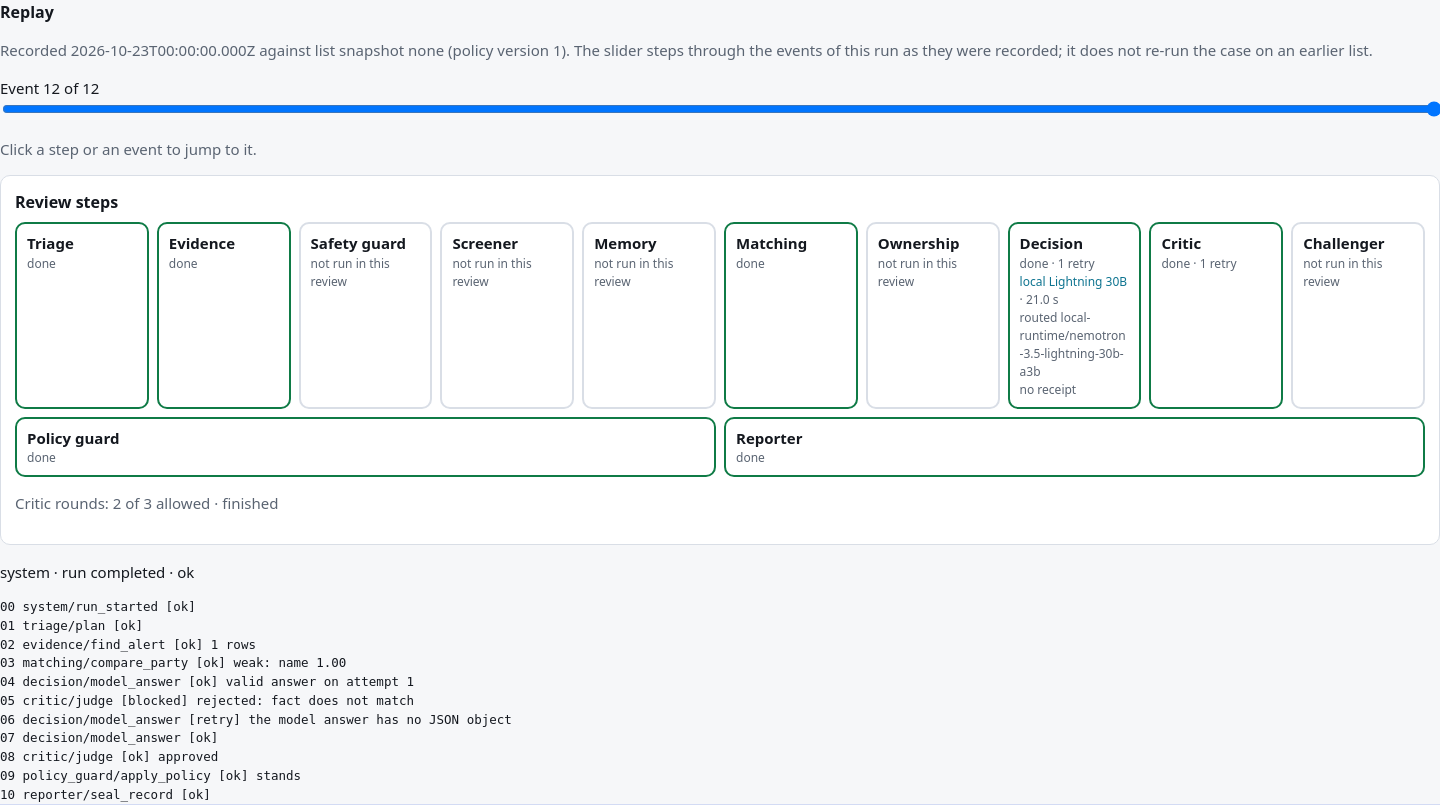
Test: the replay, by clicking › jumps to a step's last recorded event when its box is clicked
Expected: the text "Click a step or an event to jump to it." is shown, top-left (0, 138), bottom-right (257, 158)
Click the button with aria-label "Jump to the last event of Decision": coordinates (1074, 252) top-left (1020, 232), bottom-right (1129, 272)
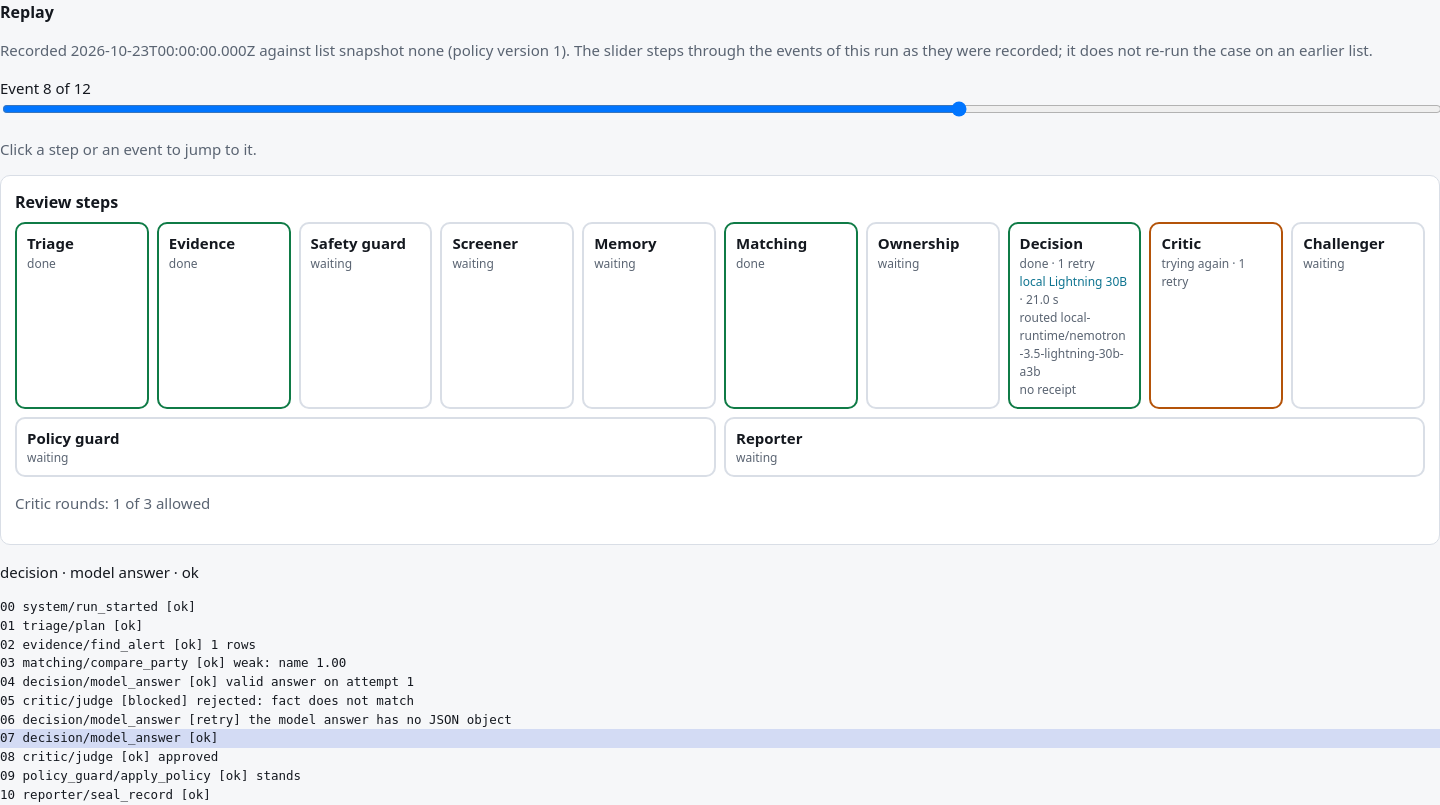
Expected: the text with test id "replay-current" shows "decision · model answer", top-left (0, 562), bottom-right (199, 582)
Click the button with aria-label "Jump to the last event of Critic": coordinates (1216, 261) top-left (1161, 232), bottom-right (1271, 290)
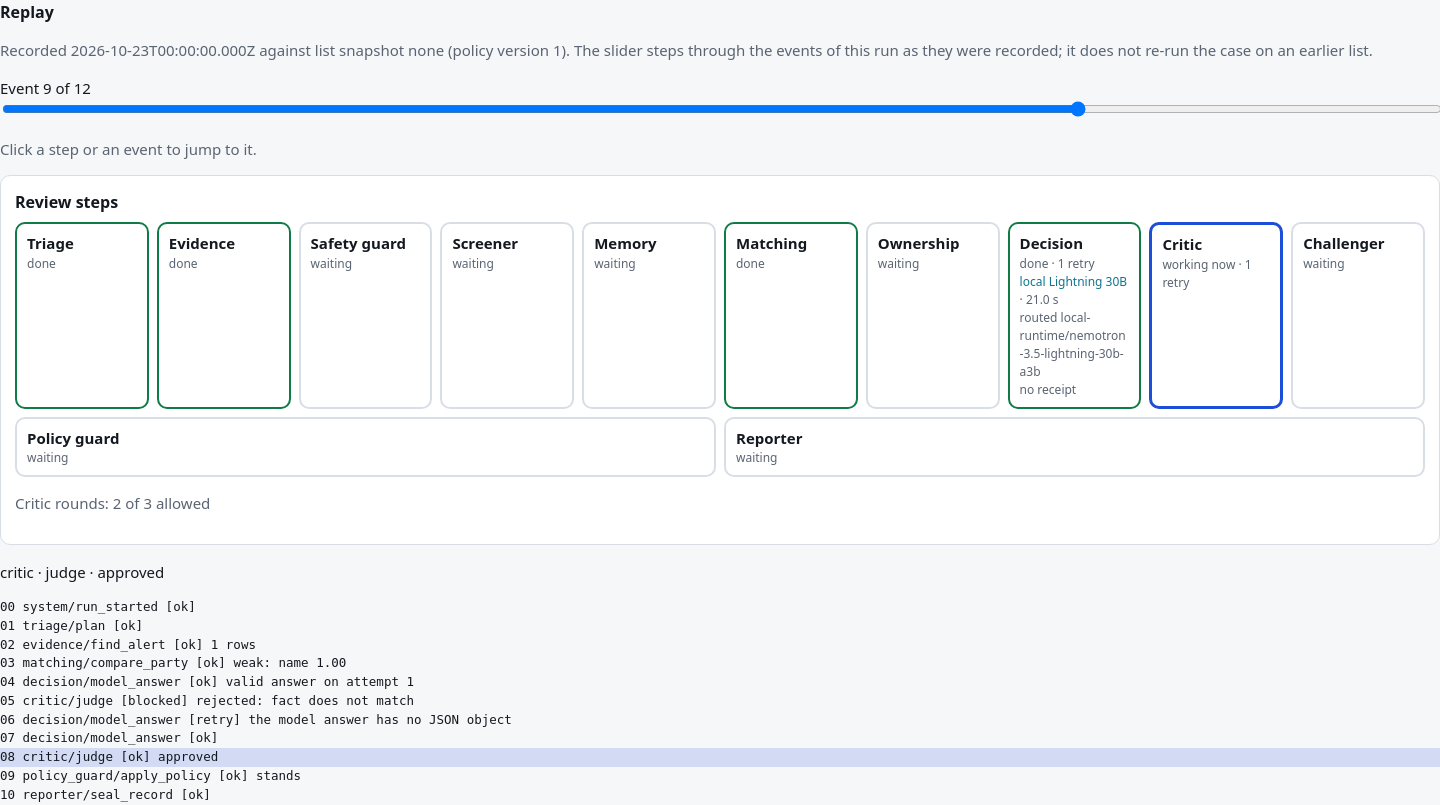
Expected: the text with test id "replay-current" shows "approved", top-left (0, 562), bottom-right (164, 582)
